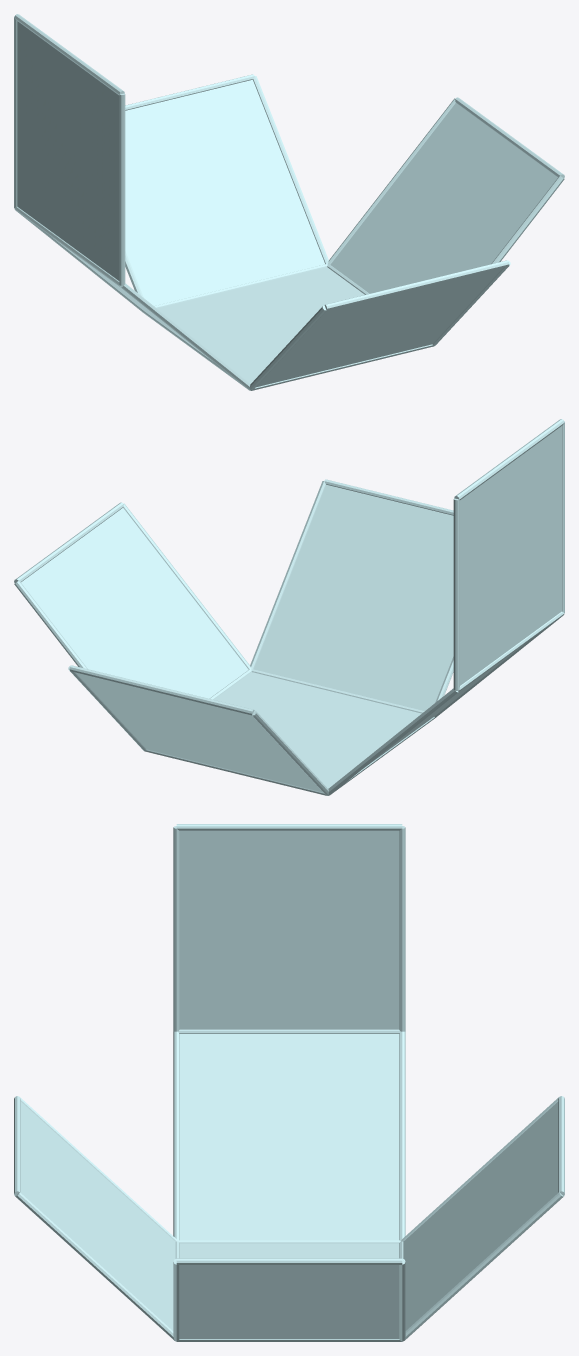
Rendered from jaring kubus 50.glb.
The picture shows the model from 3 angles, top to bottom: view 1: azimuth 30°, elevation 25°; view 2: azimuth 150°, elevation 25°; view 3: azimuth 270°, elevation 25°; orthographic projection. The views are drawn at different scales.
Size of the model in its own units: 40.51 by 28.79 by 40.51.
